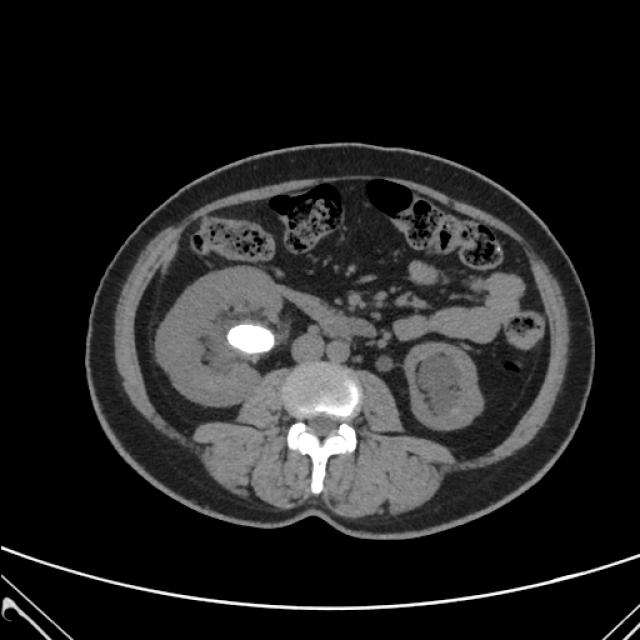kidney: (155, 265, 285, 407), (403, 342, 486, 431)
stone: (226, 324, 275, 352)
